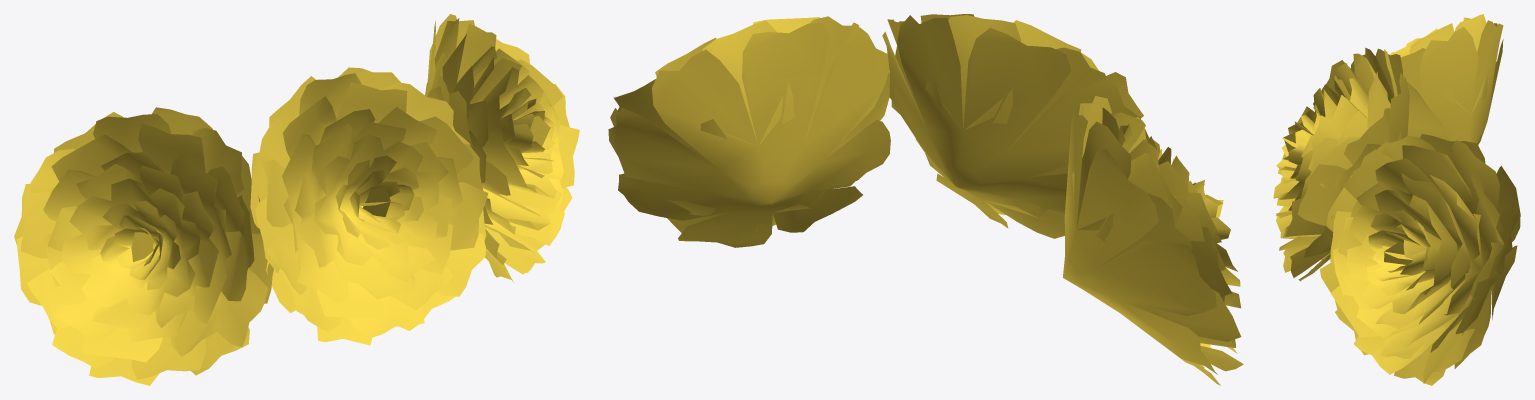
Rendered from pm0355_00_Rig.fbx.
3 renders of one model, left to right at view 1: azimuth 30°, elevation 25°; view 2: azimuth 150°, elevation 25°; view 3: azimuth 270°, elevation 25°, orthographic. The views are drawn at different scales.
Parts seen in each view (by area): view 1: doodad_diadelosmuertos_2022_flower (1), doodad_diadelosmuertos_2022_flower, doodad_diadelosmuertos_2022_flower (2); view 2: doodad_diadelosmuertos_2022_flower (2), doodad_diadelosmuertos_2022_flower, doodad_diadelosmuertos_2022_flower (1); view 3: doodad_diadelosmuertos_2022_flower (2), doodad_diadelosmuertos_2022_flower, doodad_diadelosmuertos_2022_flower (1).
Part boxes in pixels (x1,y1,x2,y2): doodad_diadelosmuertos_2022_flower (1): (14, 107, 273, 385); doodad_diadelosmuertos_2022_flower: (250, 67, 488, 345); doodad_diadelosmuertos_2022_flower (2): (425, 14, 579, 282); doodad_diadelosmuertos_2022_flower (2): (608, 16, 890, 247); doodad_diadelosmuertos_2022_flower: (882, 14, 1149, 238); doodad_diadelosmuertos_2022_flower (1): (1063, 96, 1243, 385); doodad_diadelosmuertos_2022_flower (2): (1320, 134, 1520, 385); doodad_diadelosmuertos_2022_flower: (1273, 47, 1409, 281); doodad_diadelosmuertos_2022_flower (1): (1389, 14, 1503, 144).
Bounding box in the file's own units: 0.5713 × 0.2599 × 0.2423.
